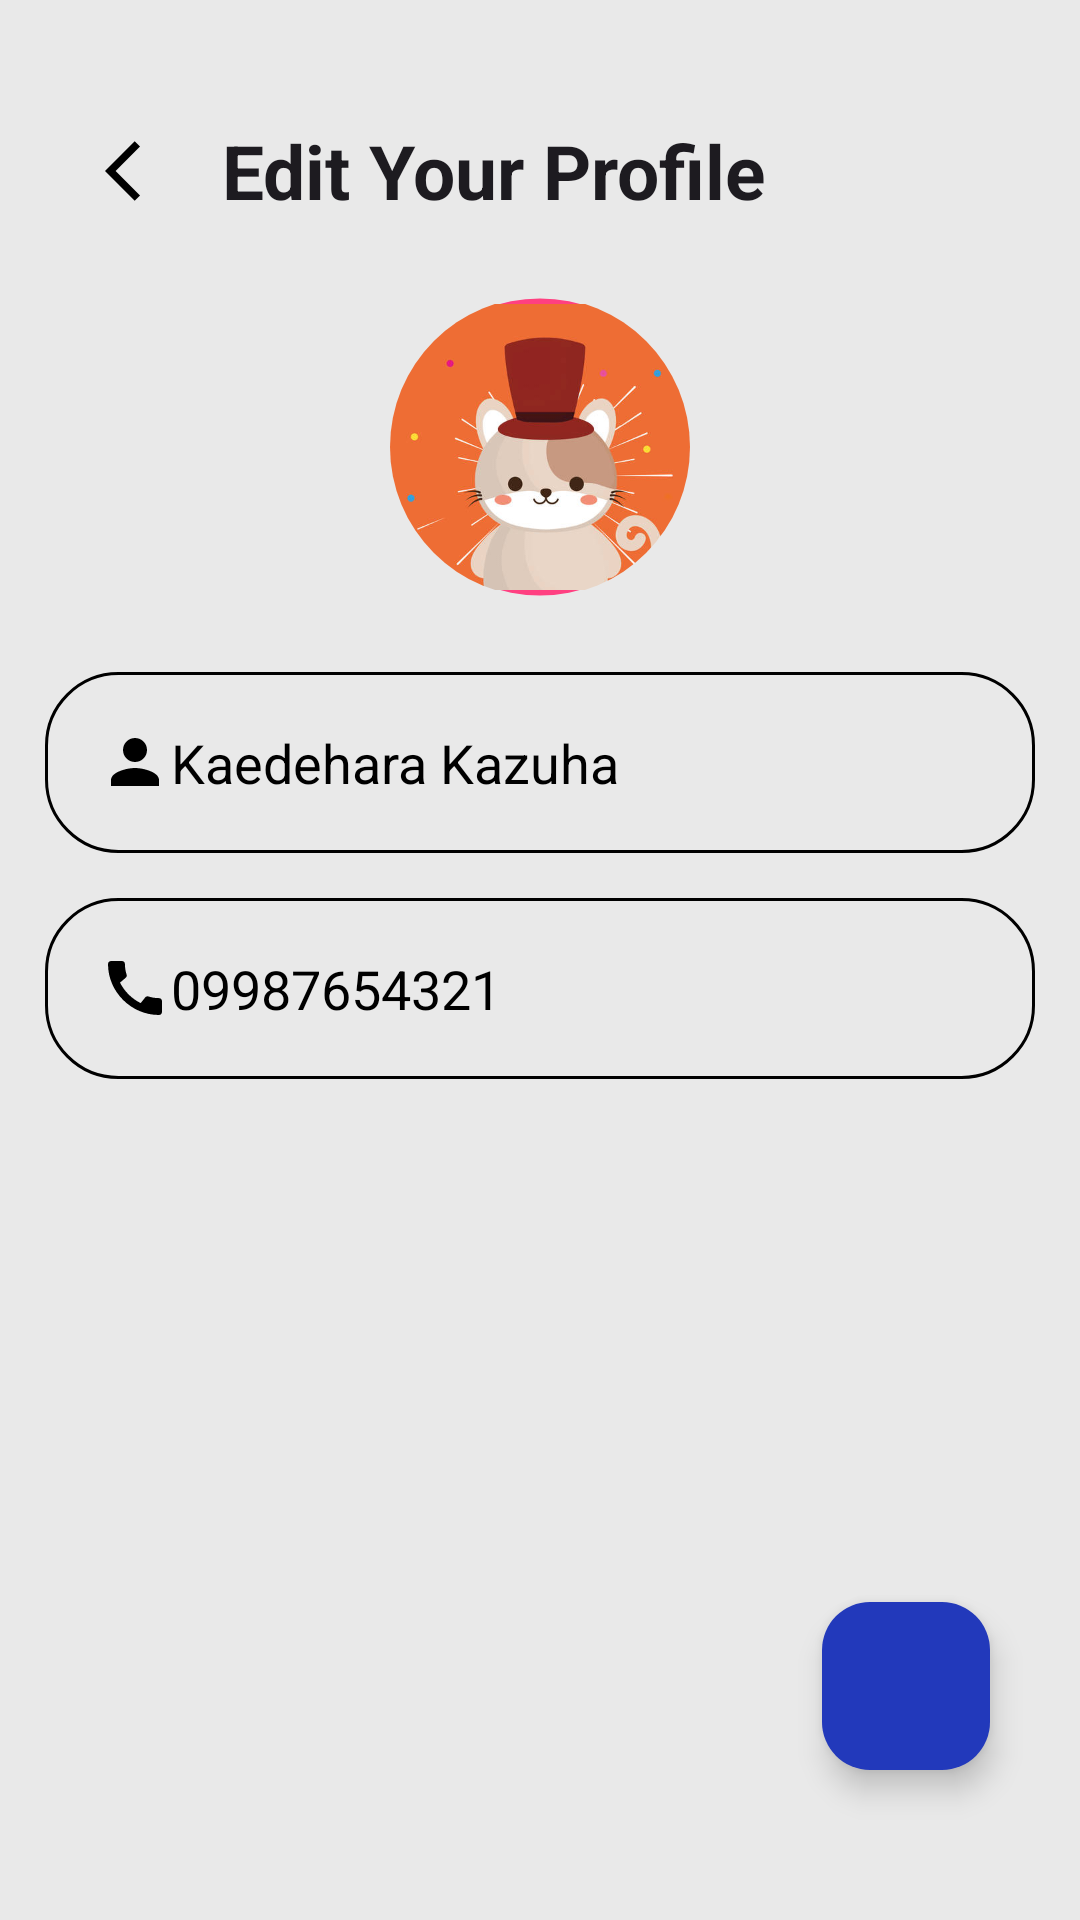

Icons on this 1080px x 1920px Android screen, each with its box as box(x1, y1, x2, y2):
arrow back: box(105, 141, 140, 201)
cat: box(390, 298, 690, 596)
